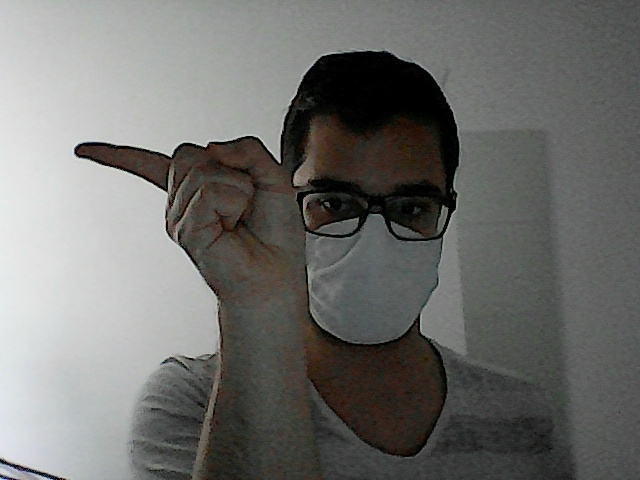right: (64, 132, 313, 284)
